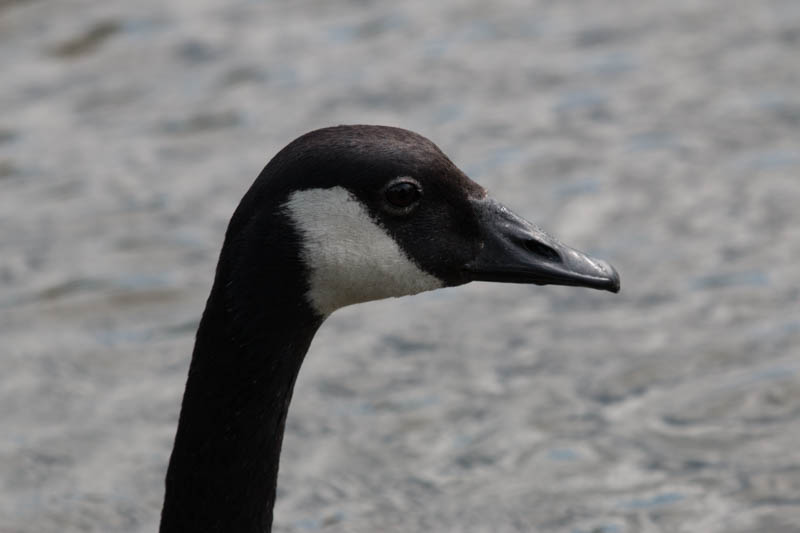goose-head: (202, 124, 620, 320)
